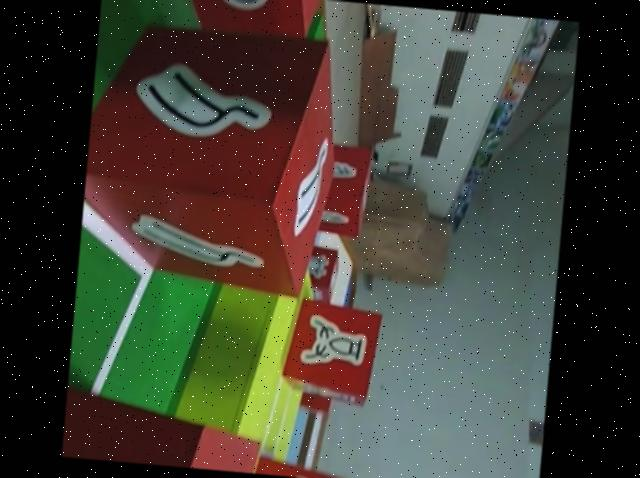R2 Real: (77, 16, 349, 301), (61, 373, 270, 474), (277, 293, 387, 408), (149, 0, 332, 41), (234, 447, 356, 478)
